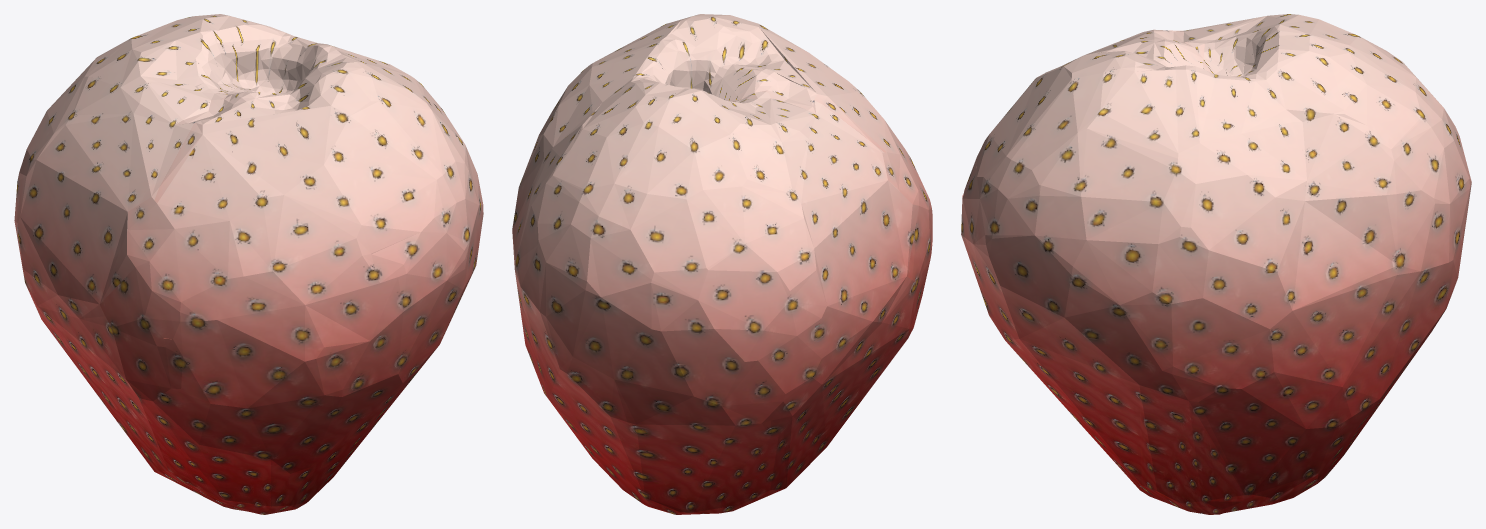
3 renders of one model, left to right at view 1: azimuth 30°, elevation 25°; view 2: azimuth 150°, elevation 25°; view 3: azimuth 270°, elevation 25°, orthographic. The views are drawn at different scales.
Parts seen in each view (by area): view 1: _001_Meshed; view 2: _001_Meshed; view 3: _001_Meshed.
Boxes of the visible parts, x1,y1,x2,y2 form: _001_Meshed: (14, 14, 483, 514); _001_Meshed: (512, 14, 932, 514); _001_Meshed: (961, 14, 1471, 514).
Size of the model in its own units: 0.0955 by 0.1113 by 0.1115.
Materials: 1 (1 with a texture image).
